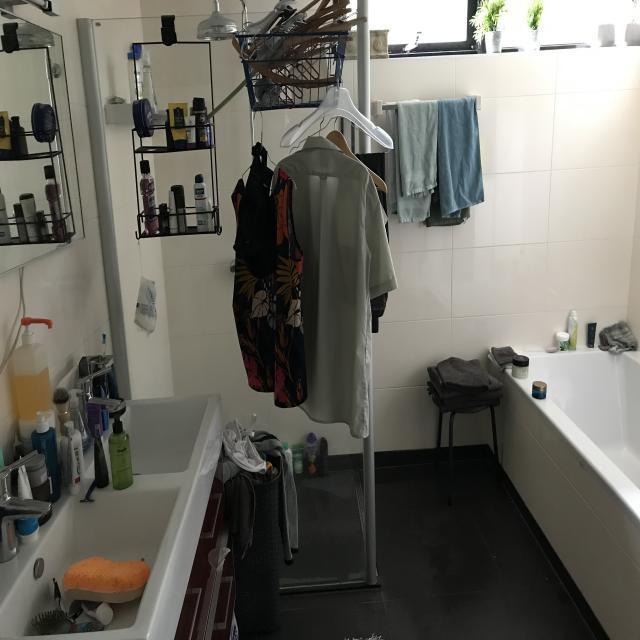bath: (488, 336, 640, 582)
douche: (76, 0, 382, 598)
wastafel: (0, 365, 222, 640), (178, 454, 236, 640)
